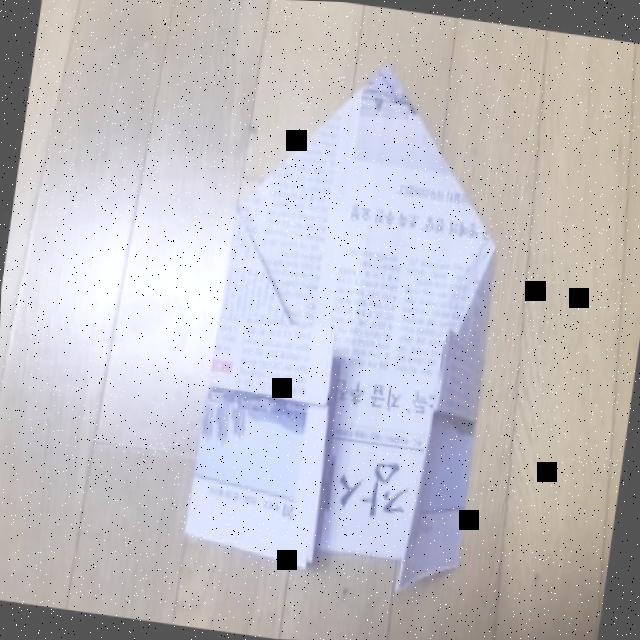reuseable_paper: (178, 26, 562, 608)
